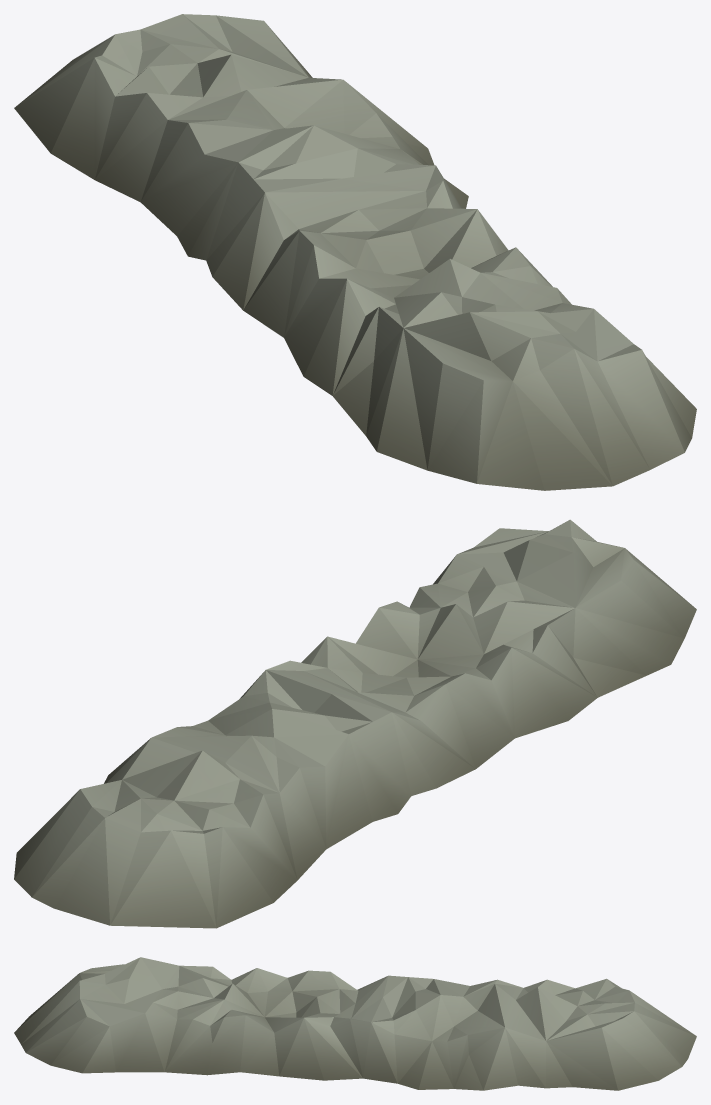
Rendered from ZLP_Road_A_5.FBX.
The picture shows the model from 3 angles, top to bottom: view 1: azimuth 30°, elevation 25°; view 2: azimuth 150°, elevation 25°; view 3: azimuth 270°, elevation 25°; orthographic projection. The views are drawn at different scales.
Parts seen in each view (by area): view 1: ZLP_Road_A_5; view 2: ZLP_Road_A_5; view 3: ZLP_Road_A_5.
Part boxes in pixels (x1=…): ZLP_Road_A_5: x1=14, y1=14, x2=696, y2=490; ZLP_Road_A_5: x1=14, y1=519, x2=696, y2=928; ZLP_Road_A_5: x1=14, y1=957, x2=696, y2=1090.
Bounding box in the file's own units: 279 × 86.62 × 795.
